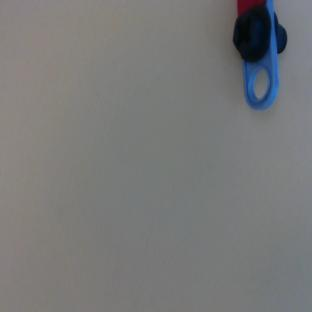part_1_good: (233, 0, 286, 109)
